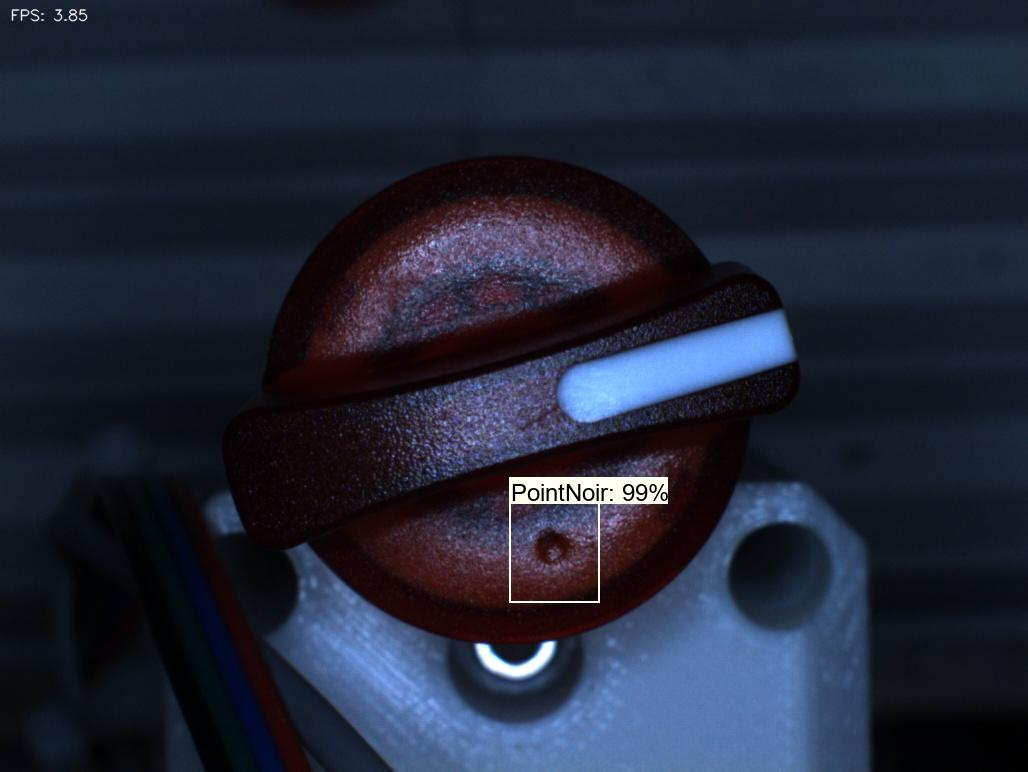Choc: (509, 515, 595, 590)
